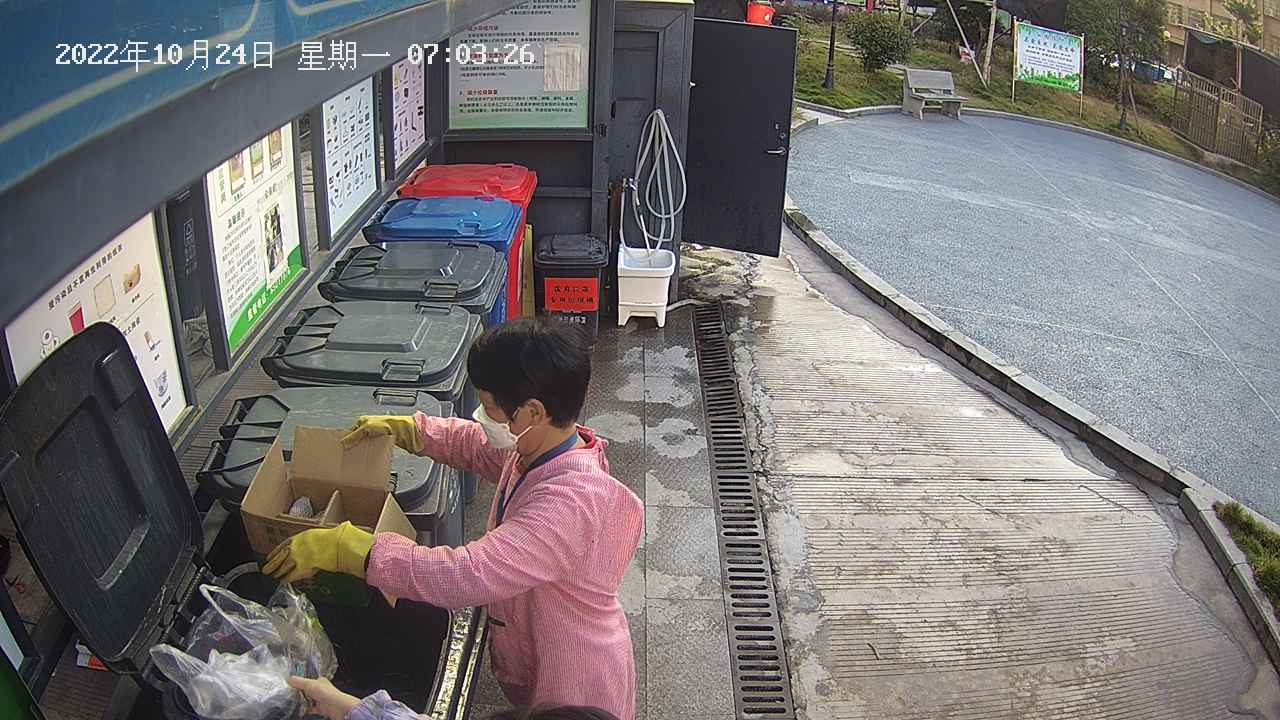person: (263, 309, 650, 720)
